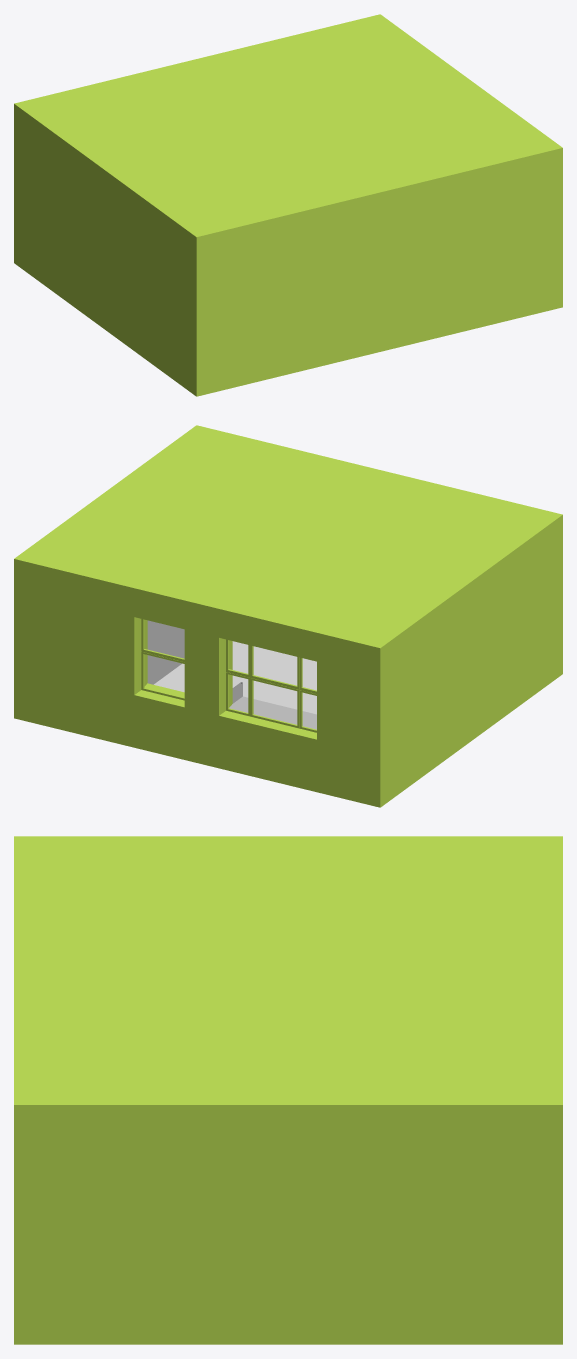
The model's file is Flat_base.FBX.
3 views of the same model, one above another, from view 1: azimuth 30°, elevation 25°; view 2: azimuth 150°, elevation 25°; view 3: azimuth 270°, elevation 25° (orthographic). The views are drawn at different scales.
Visible parts, largest first — view 1: shadowbox; view 2: shadowbox, Walls, Floor_base, Window_S003, Custom Table, Window_S002; view 3: shadowbox.
Part boxes in pixels (<box>): shadowbox: <box>14,14,562,396</box>; shadowbox: <box>14,425,562,807</box>; Walls: <box>134,617,316,739</box>; Floor_base: <box>154,641,316,714</box>; Window_S003: <box>226,639,316,732</box>; Custom Table: <box>229,682,316,729</box>; Window_S002: <box>141,619,184,700</box>; shadowbox: <box>14,836,562,1344</box>.
Size of the model in its own units: 983 by 409 by 849.
